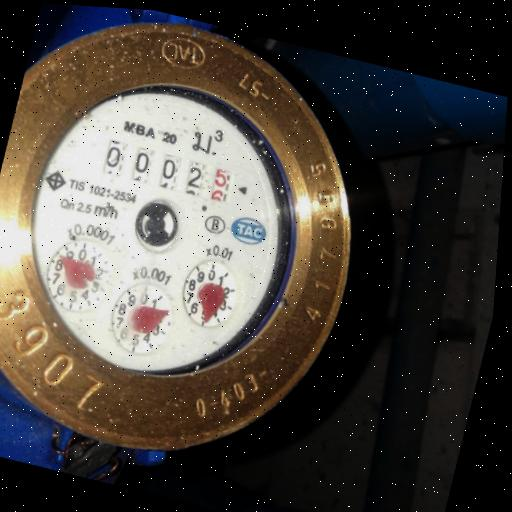0: (154, 152, 182, 190), (100, 138, 127, 177), (128, 145, 155, 184)
2: (181, 159, 209, 198)
5: (206, 164, 236, 206)
border_water_meter_number: (93, 133, 243, 209)
